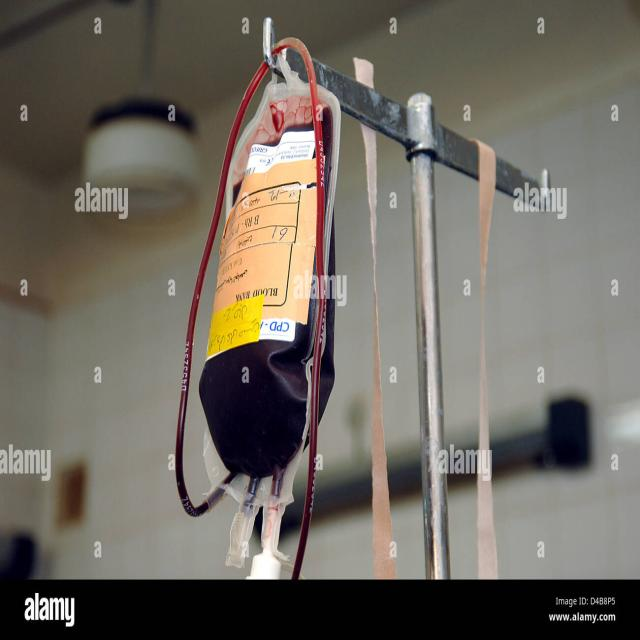B3: (185, 70, 338, 532)
